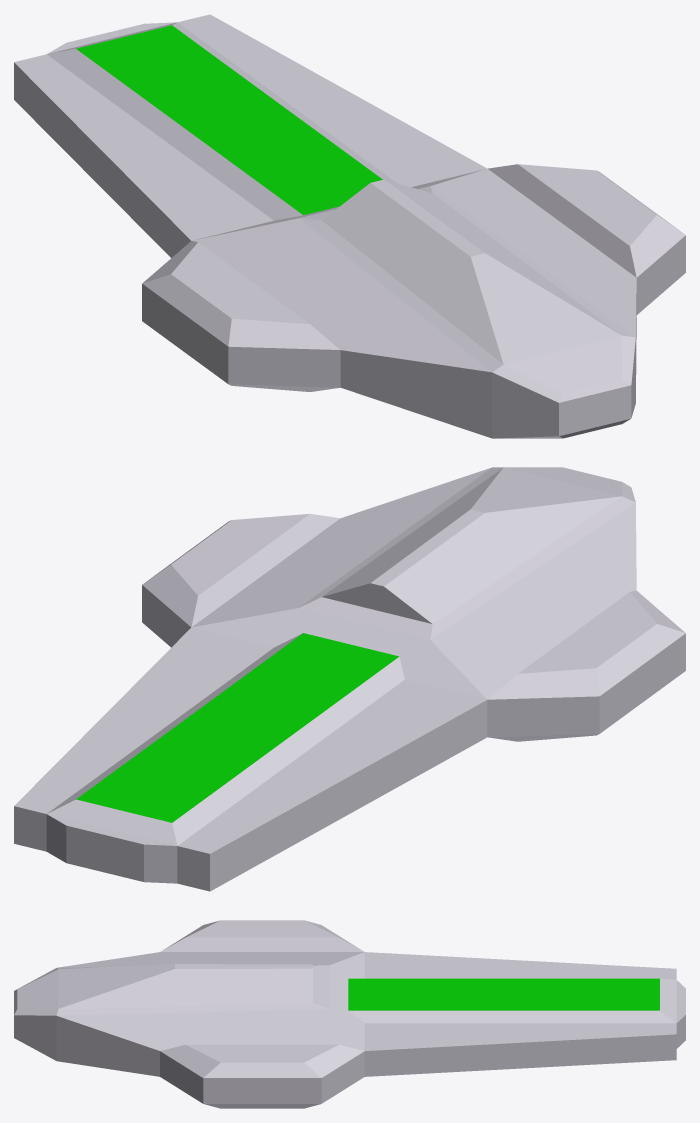
Rendered from block.doorStop.fbx.
3 views of the same model, one above another, from view 1: azimuth 30°, elevation 25°; view 2: azimuth 150°, elevation 25°; view 3: azimuth 270°, elevation 25° (orthographic). The views are drawn at different scales.
Parts seen in each view (by area): view 1: block.doorStop; view 2: block.doorStop; view 3: block.doorStop.
Part boxes in pixels (bbox=[...]): block.doorStop: bbox=[14, 14, 685, 438]; block.doorStop: bbox=[14, 467, 685, 891]; block.doorStop: bbox=[14, 920, 685, 1108].
Size of the model in its own units: 2.84 by 0.8285 by 5.26.
